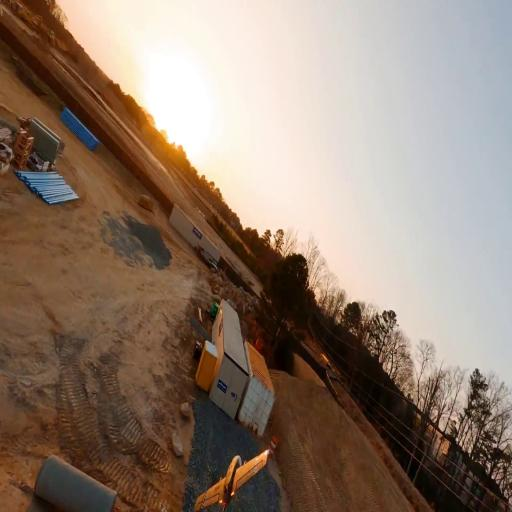uav: (191, 446, 273, 512)
